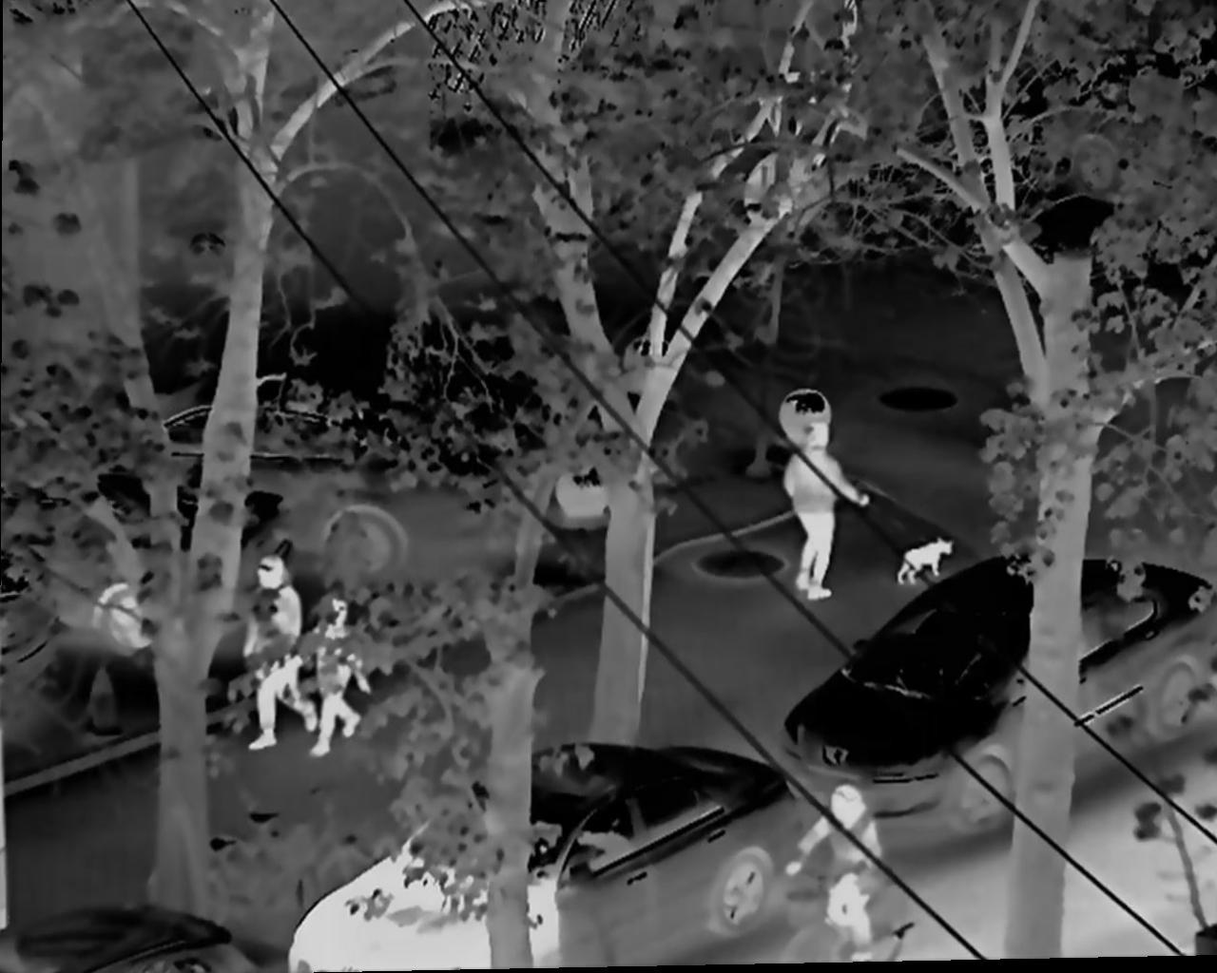person: (784, 422, 871, 606), (241, 559, 318, 747), (791, 786, 877, 949), (312, 592, 364, 758)
